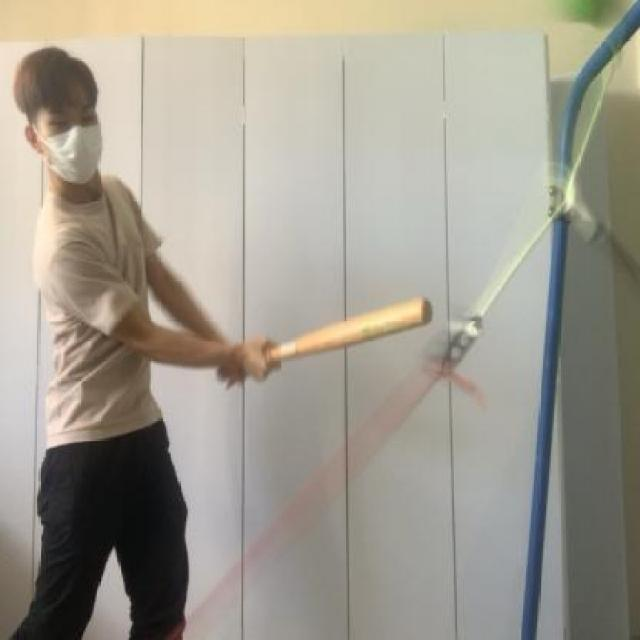baseball: (553, 0, 624, 38)
